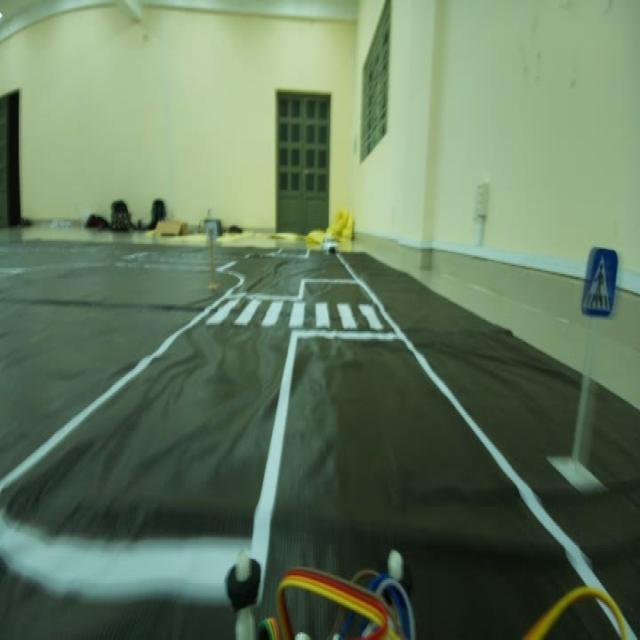crosswalk: (579, 233, 620, 321)
